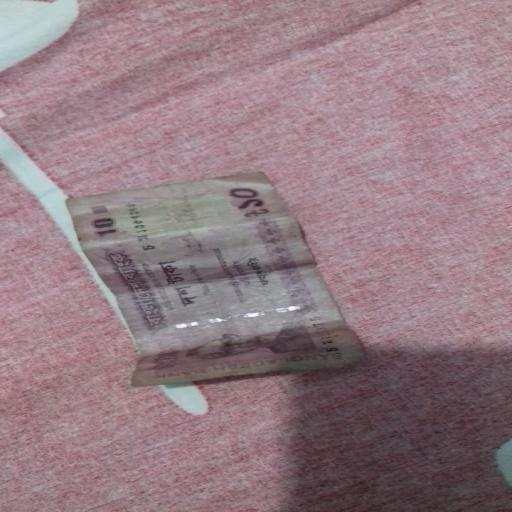10taka: (66, 175, 370, 389)
